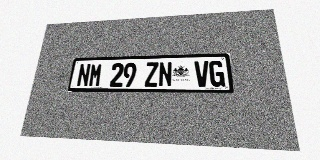2: (110, 63, 124, 87)
9: (122, 62, 137, 87)
G: (209, 60, 225, 87)
M: (88, 63, 103, 87)
N: (158, 62, 172, 87), (76, 64, 91, 87)
V: (194, 61, 210, 87)
Z: (144, 62, 158, 87)
